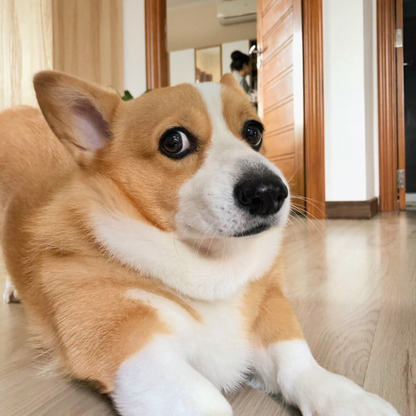Corgi: (23, 59, 345, 387)
